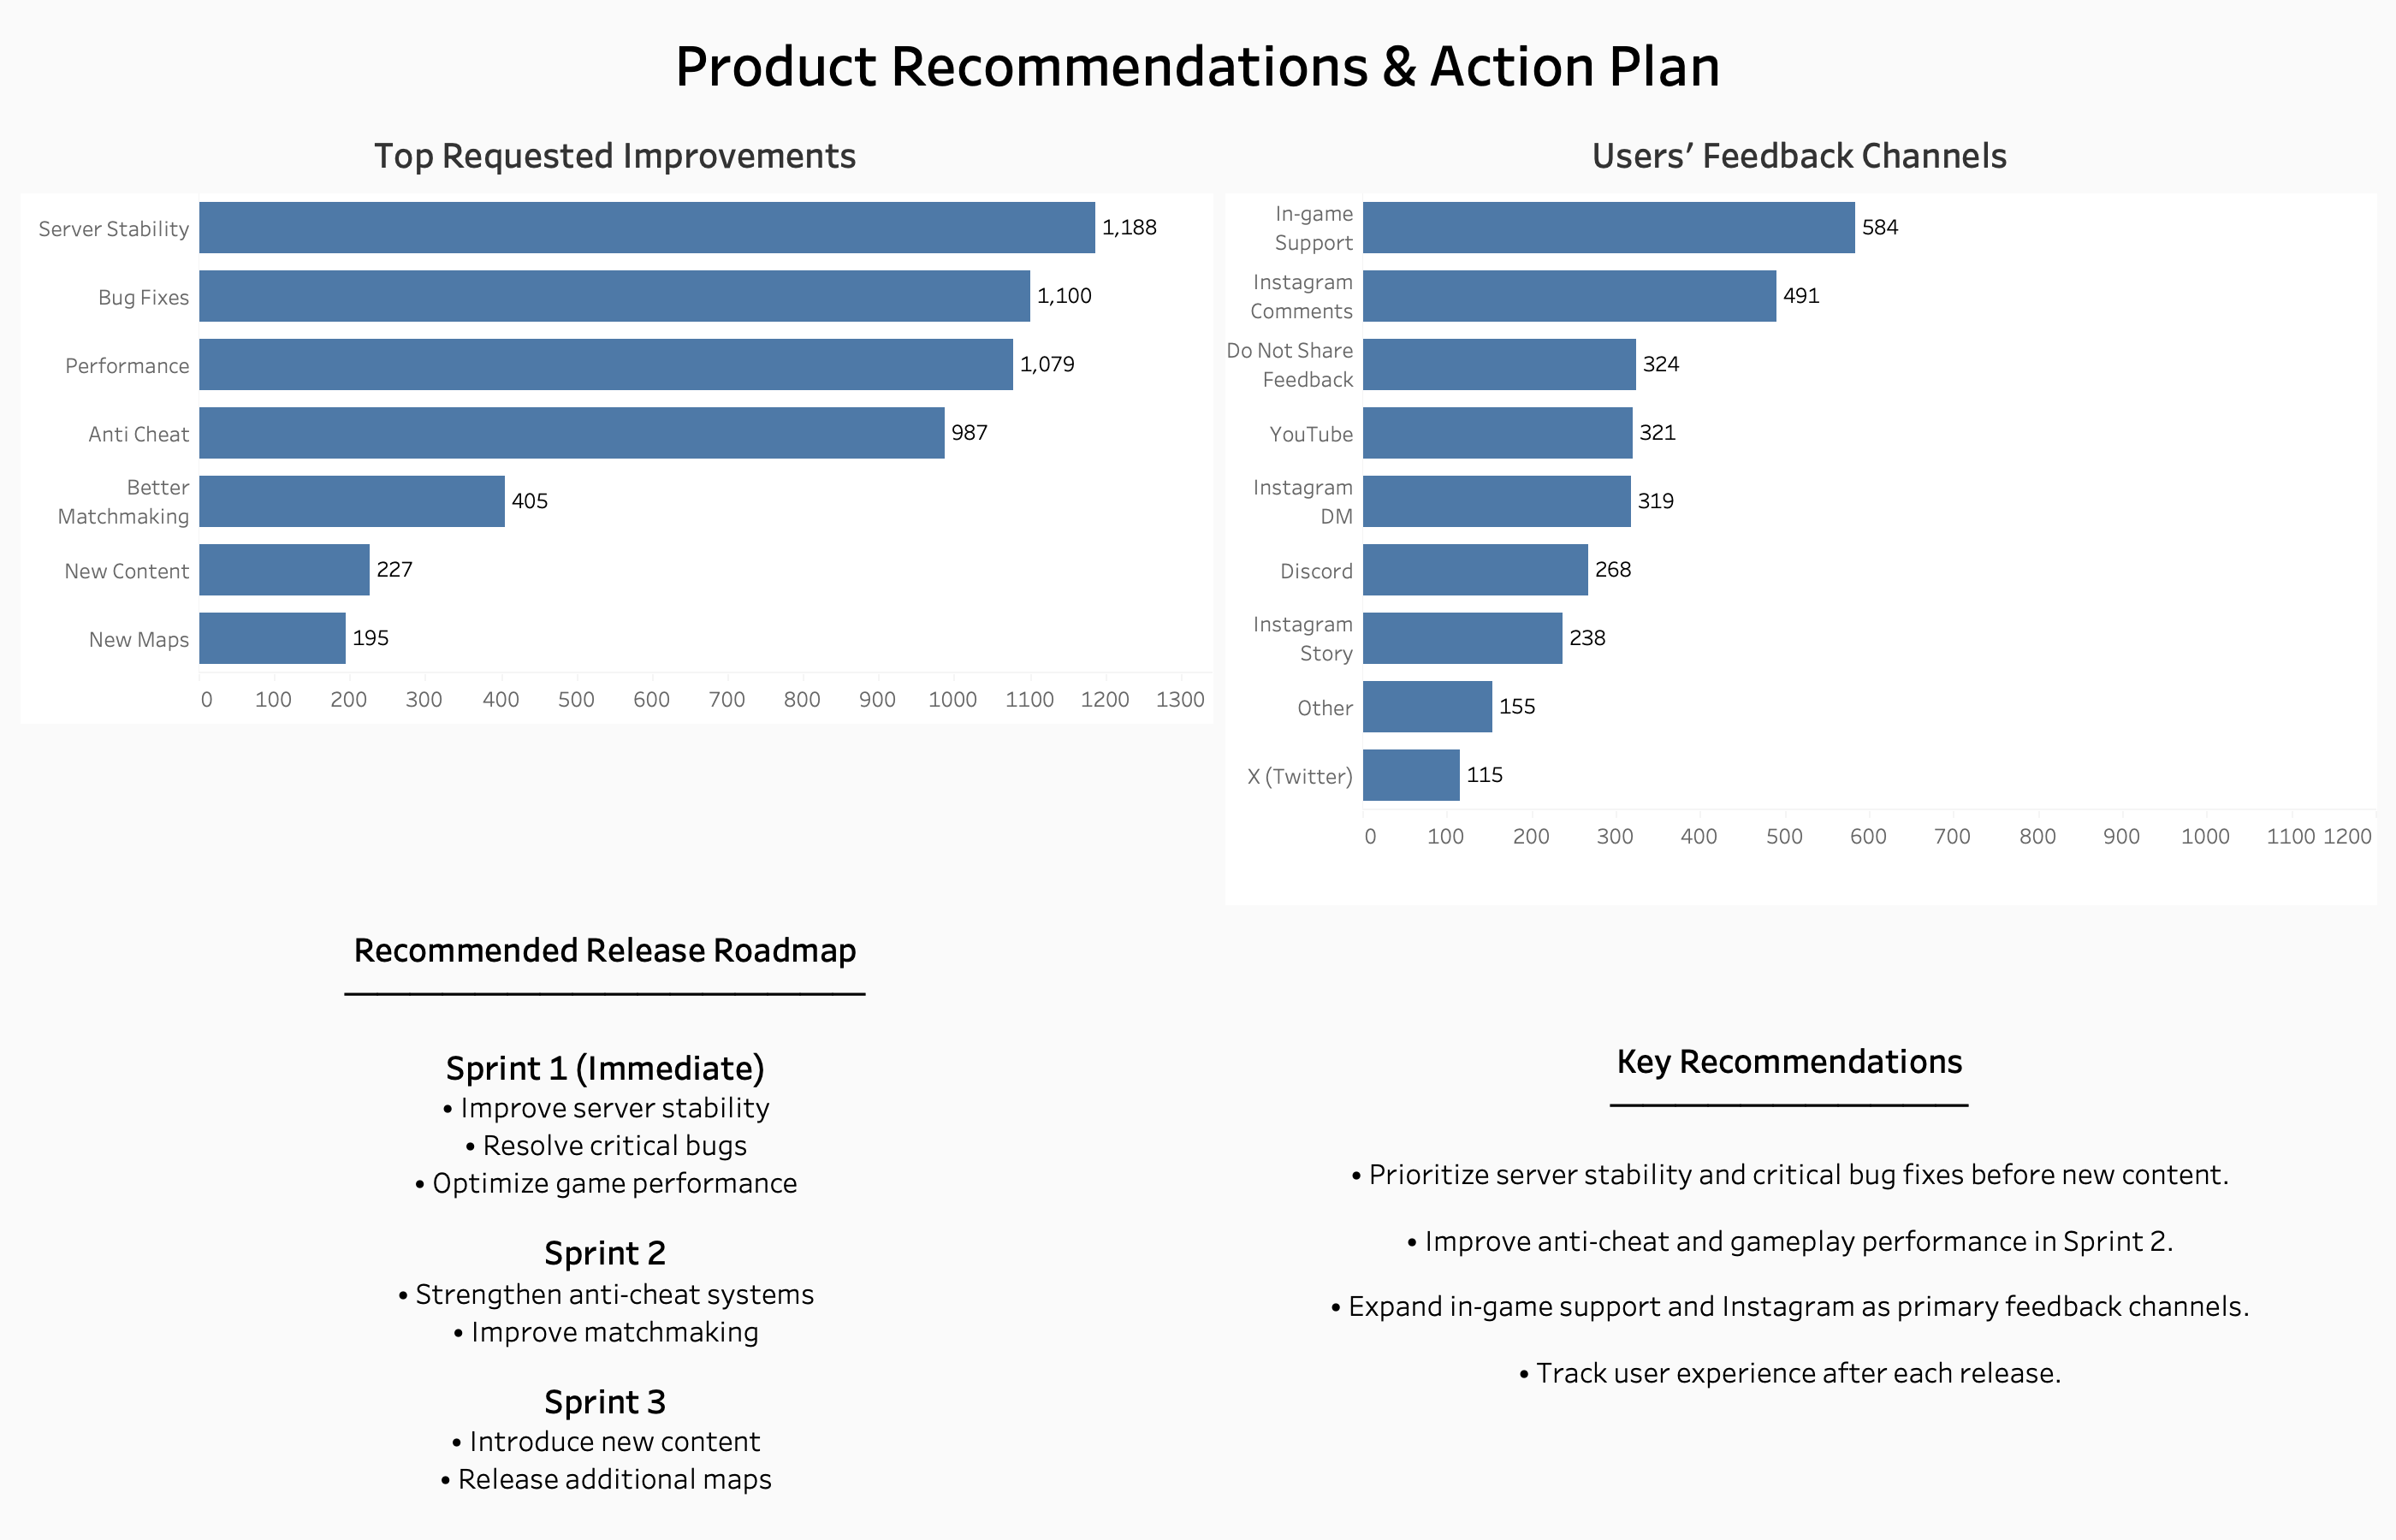

What the dashboard file says about the page in this screenshot:
{"tool":"tableau","page":{"name":"Product Recommendations","canvas":[1400,900],"ordinal":2},"visuals":[{"type":"text","box":[8,8,1384,58]},{"type":"worksheet","title":"Top Feature Priorities","mark":"Automatic","rows":["feature"],"cols":["votes"],"box":[8,66,704,467]},{"type":"worksheet","title":"Feedback Channels","mark":"Automatic","rows":["channel"],"cols":["respondents"],"box":[712,66,680,467]},{"type":"text","box":[8,533,692,359]},{"type":"text","box":[700,533,692,359]}]}

Visuals, with their boxes in screenshot pixels (x1, y1, x2, y2), scaled from the page's 1400x900 canvas onto the 2396x1540 screenshot:
text: 14,14,2382,113
"Top Feature Priorities" worksheet: 14,113,1219,912
"Feedback Channels" worksheet: 1219,113,2382,912
text: 14,912,1198,1526
text: 1198,912,2382,1526
